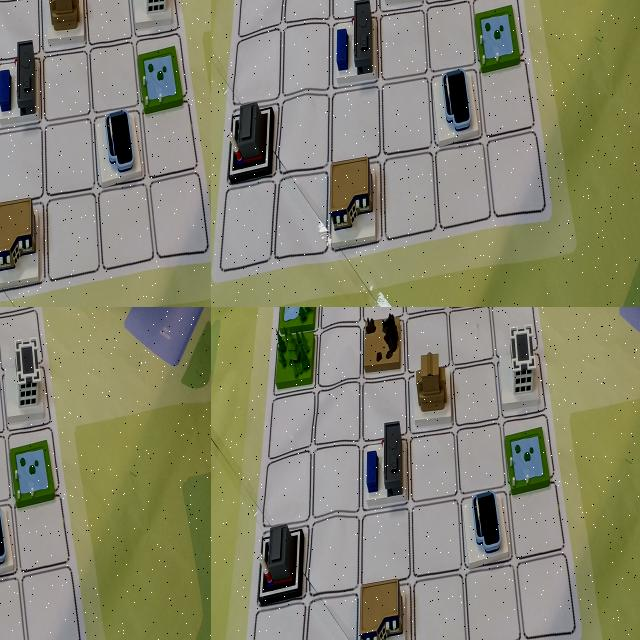bus_stop: (360, 23, 415, 125), (358, 416, 414, 514), (0, 427, 33, 531), (0, 265, 24, 307)
factory: (331, 106, 392, 202), (256, 519, 309, 612), (0, 370, 33, 460)
fish_pool: (282, 72, 334, 159), (505, 420, 557, 495), (0, 85, 23, 169)
forest: (539, 2, 593, 94), (272, 323, 318, 390), (31, 88, 71, 163), (0, 307, 27, 351)
gogo_shop: (399, 66, 456, 162), (459, 484, 514, 572), (0, 593, 31, 640)
research_build: (0, 542, 63, 640), (514, 59, 571, 164), (492, 325, 546, 412), (0, 174, 24, 260)
restaurant: (354, 577, 417, 640), (0, 522, 31, 631), (387, 0, 436, 42), (0, 88, 24, 170)
silicate_rock: (358, 307, 408, 381), (0, 345, 31, 427), (443, 0, 498, 46), (74, 270, 123, 307)
volunteer_center: (447, 92, 500, 195), (408, 351, 458, 433), (0, 425, 32, 543), (70, 130, 114, 204)
wet_land: (418, 181, 478, 279), (278, 307, 316, 336), (0, 307, 27, 346)
